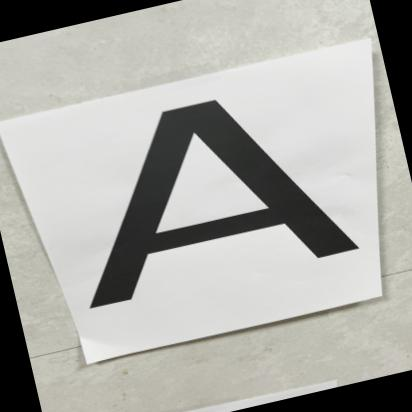seat: (51, 61, 357, 324)
